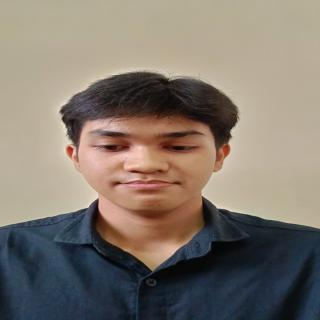Sedih: (75, 111, 226, 219)
